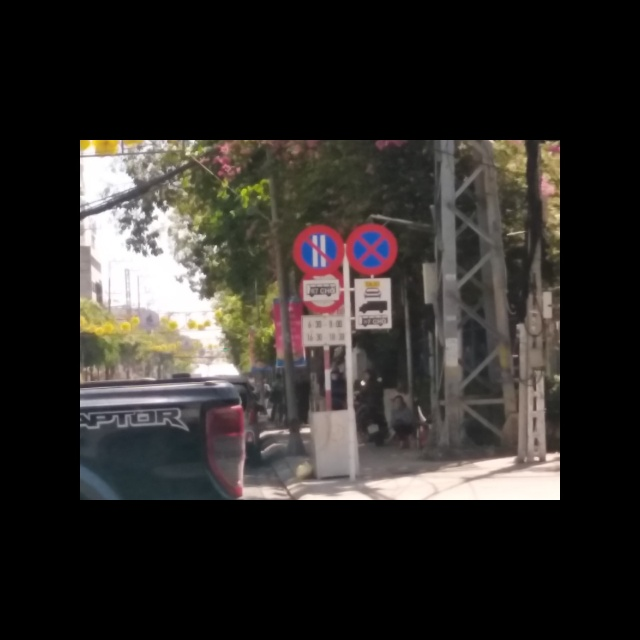Cấm dừng xe và đỗ xe: (344, 223, 398, 275)
Cấm đỗ xe ngày chẵn: (291, 224, 345, 276)
